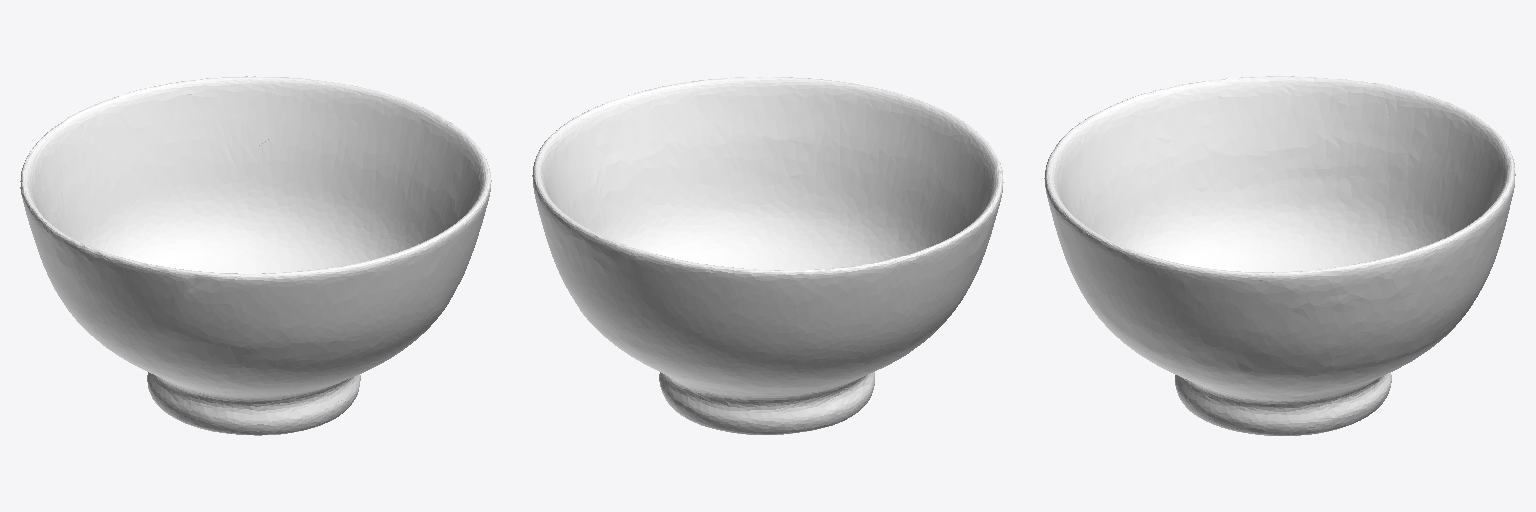
The robot description file, URDF, robot "6_chinese_ceramic_bowl_small_0":
<?xml version='1.0' encoding='utf-8'?>
<robot name="6_chinese_ceramic_bowl_small_0">
        <link name="link_0">
            <visual>
                <origin xyz="0.0 0.0 0.0" rpy="0.017453292519943295 0.0 0.0" />
                <geometry>
                    <mesh filename="textured_objs/textured.obj" scale="1 1 1.0" />
                </geometry>
                <material name="white">
                    <color rgba="1 1 1 1" />
                </material>
            </visual>
            <collision>
                <origin xyz="0.0 0.0 0.0" rpy="0.017453292519943295 0.0 0.0" />
                <geometry>
                    <mesh filename="textured_objs/textured.obj" scale="1 1 1.0" />
                </geometry>
            </collision>
            <inertial>
                <mass value="0.1" />
                <inertia ixx="0.0001" ixy="0.0" ixz="0.0" iyy="0.0001" iyz="0.0" izz="0.0001" />
            </inertial>
        </link>
    </robot>

--- What the picture shows (computed from the rendered views, not written in the file) ---
Views: 3 orthographic renders of the robot side by side, from view 1: azimuth 30°, elevation 25°; view 2: azimuth 150°, elevation 25°; view 3: azimuth 270°, elevation 25°.
Model 6_chinese_ceramic_bowl_small_0 with 1 links and 0 joints (none), rooted at link_0, posed all joints at 0.
Links seen in each view (by area): view 1: link_0; view 2: link_0; view 3: link_0.
Boxes of the visible links, <box> form: link_0: <box>20,76,491,435</box>; link_0: <box>532,77,1003,434</box>; link_0: <box>1044,76,1515,435</box>.
Bounding box of the posed robot: 0.1285 × 0.1265 × 0.0671 m (x, y, z).
1 mesh visuals loaded from 1 distinct referenced files (1 OBJ).